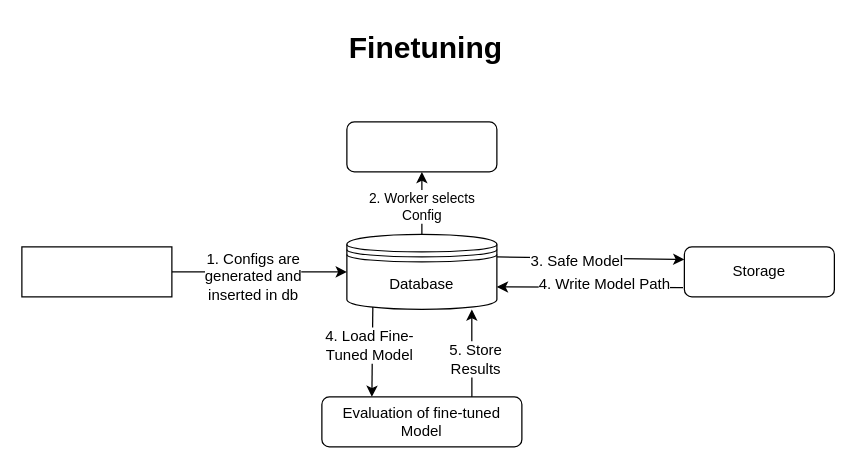
This 856x469 diagram has some shape labels left out. Here are the shapes that lost their labels. From the top down, the centre of each, then its label:
At (421,146): "Fine-Tuning with Selected Config".
At (96,271): "Search Space".
